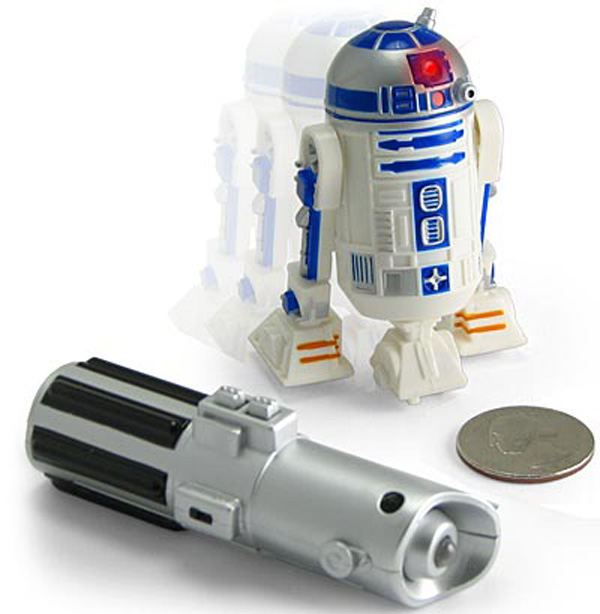r2d2: (263, 8, 526, 395)
